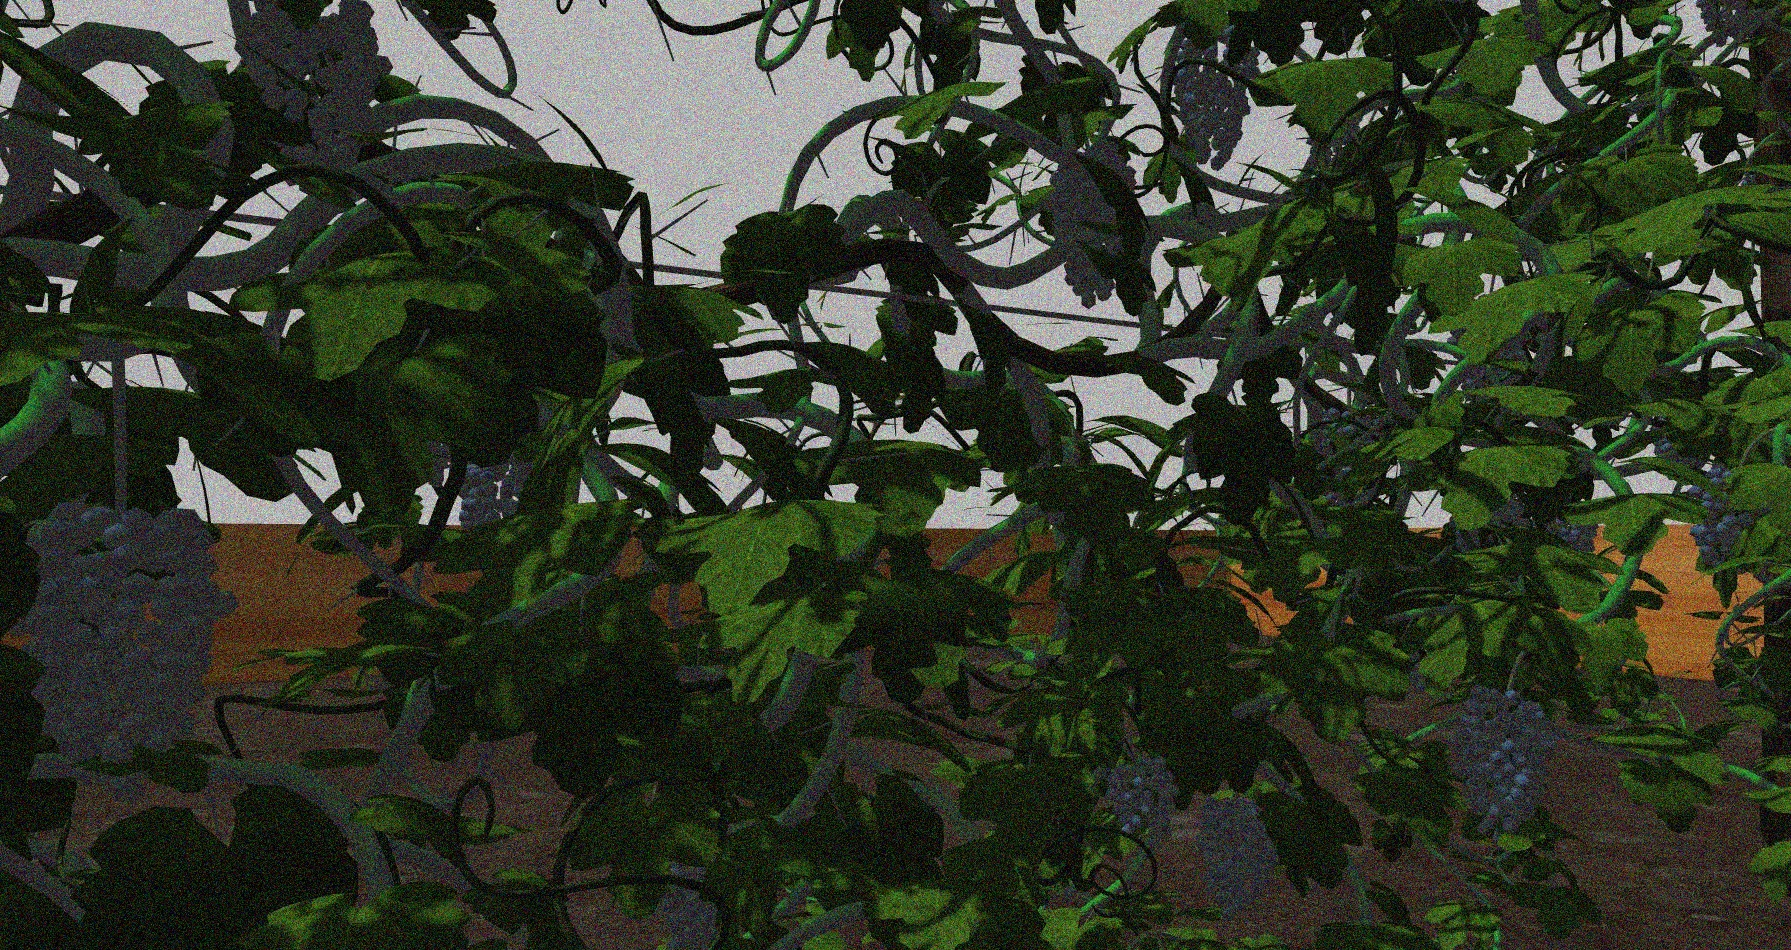grape: (20, 498, 240, 805), (244, 7, 392, 172), (1449, 682, 1559, 840), (1049, 143, 1142, 308), (1170, 33, 1256, 175), (1192, 792, 1280, 923), (1105, 749, 1182, 856)
